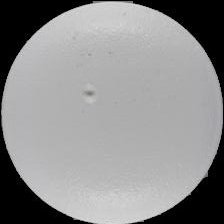0131-3268: (0, 0, 224, 224)
